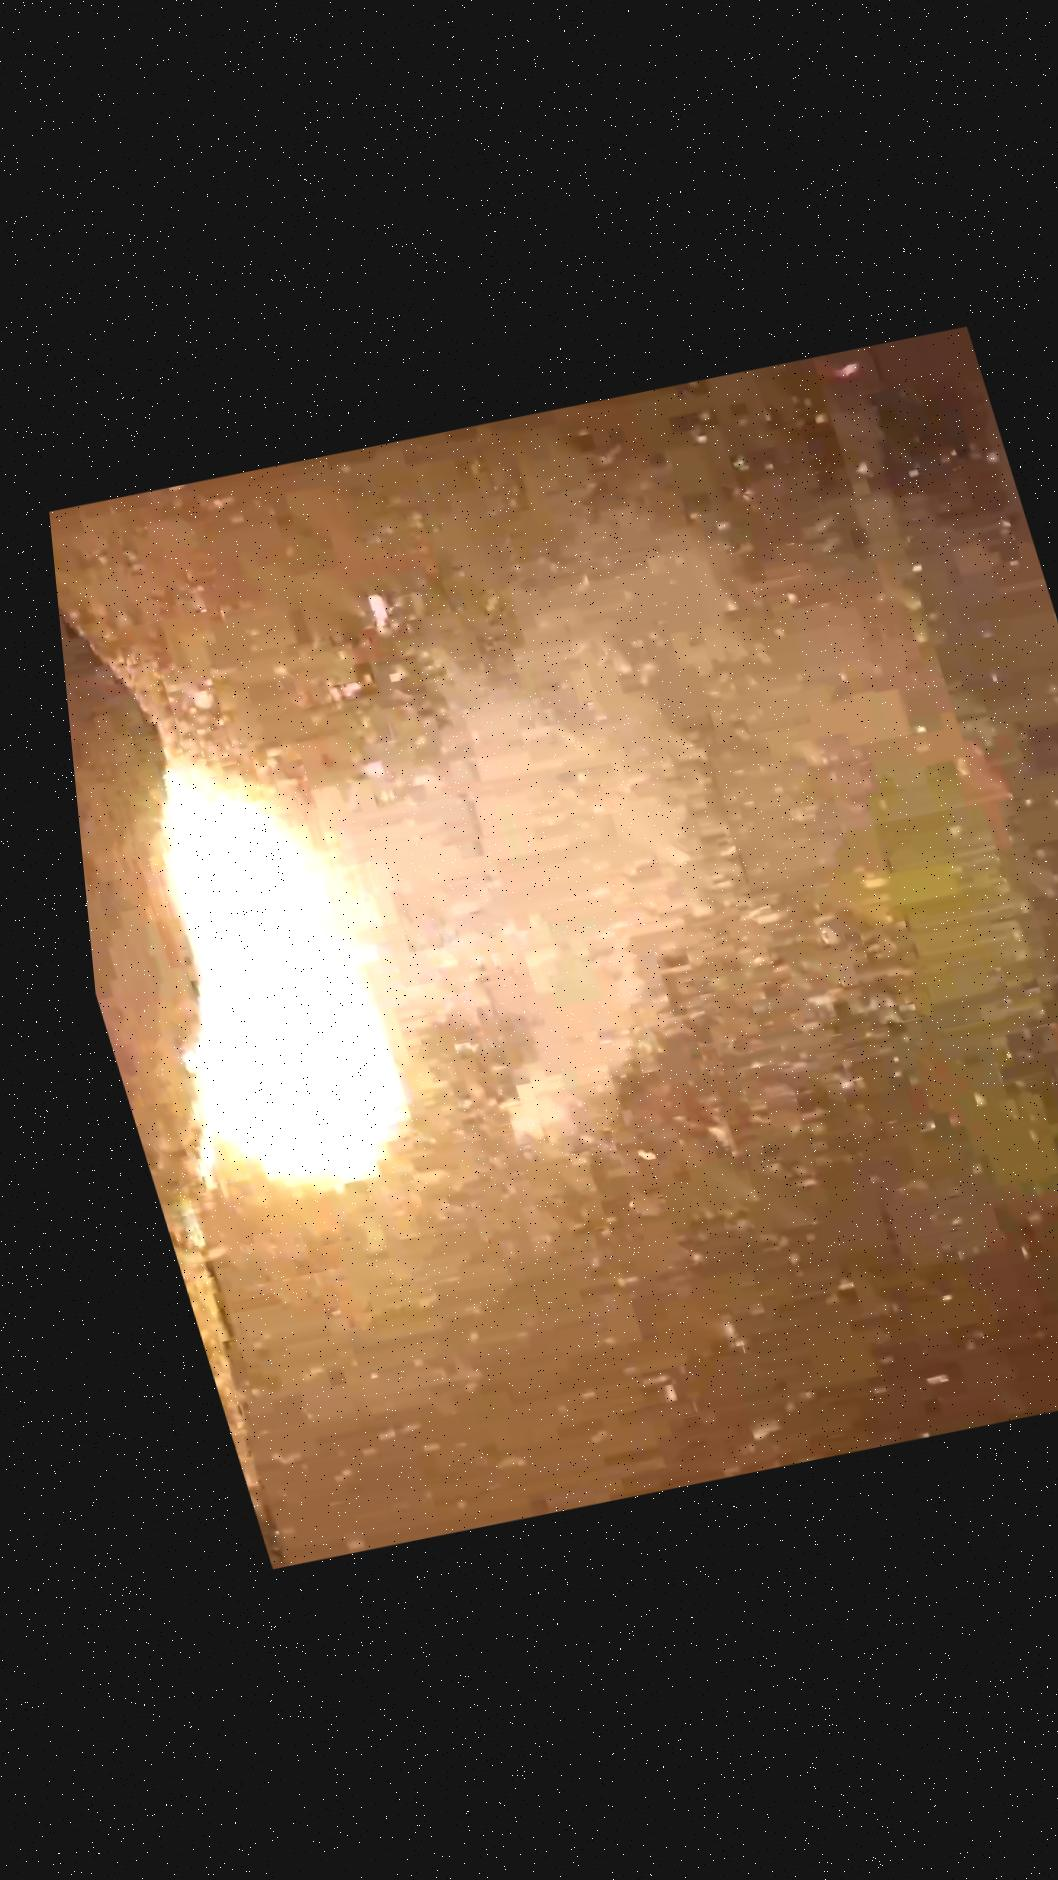fire: (44, 451, 1026, 1463)
